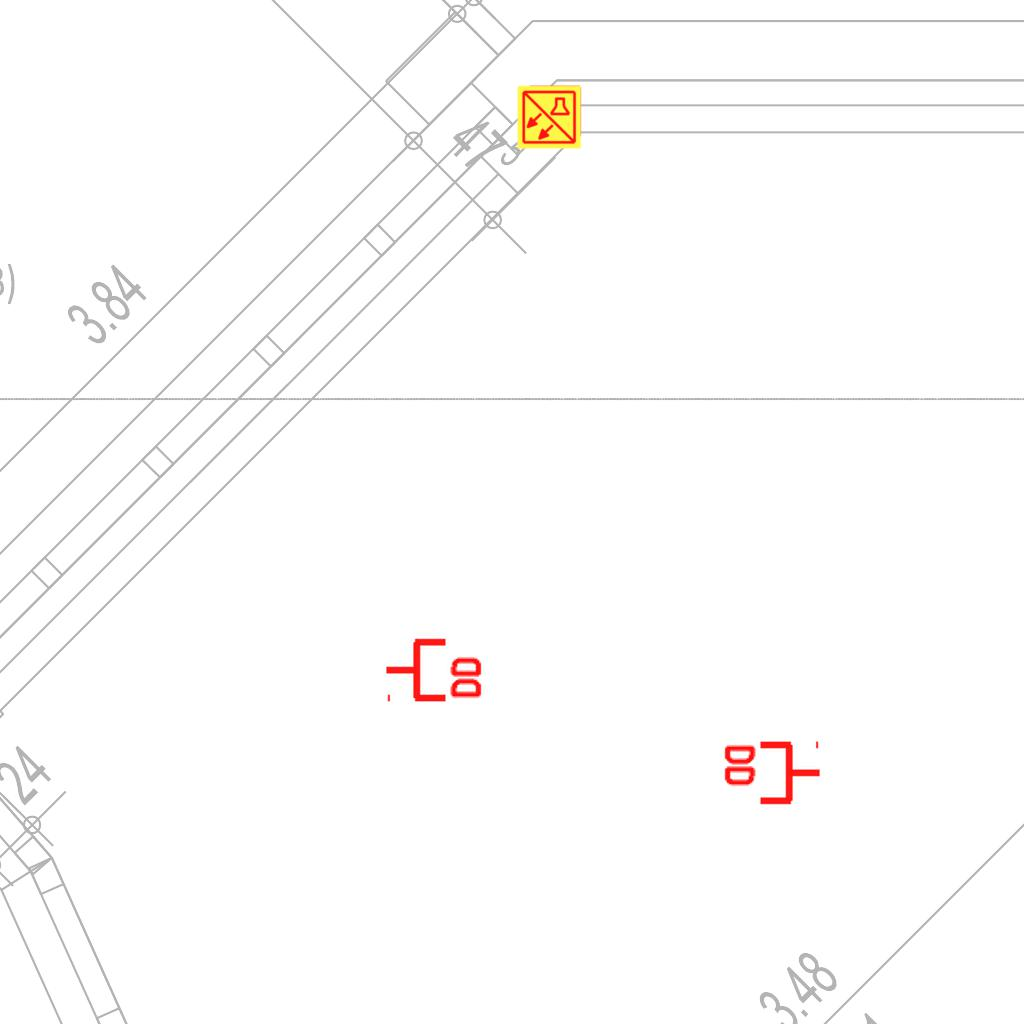Datenanschluss_zweifach: (720, 740, 823, 809), (383, 634, 486, 703)
OKW_Multisensormelder_(Kombination_optischer_Rauch-Kahlenmonoxid_Waerme-Melder): (516, 84, 582, 150)
